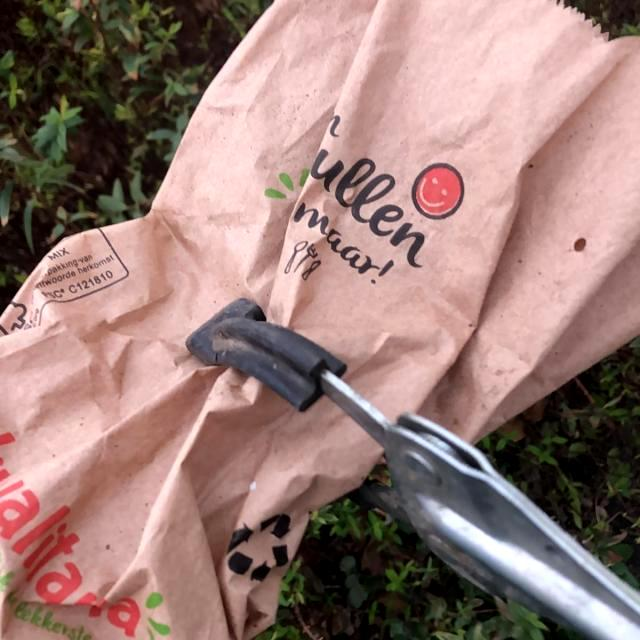Paper: (1, 0, 640, 638)
